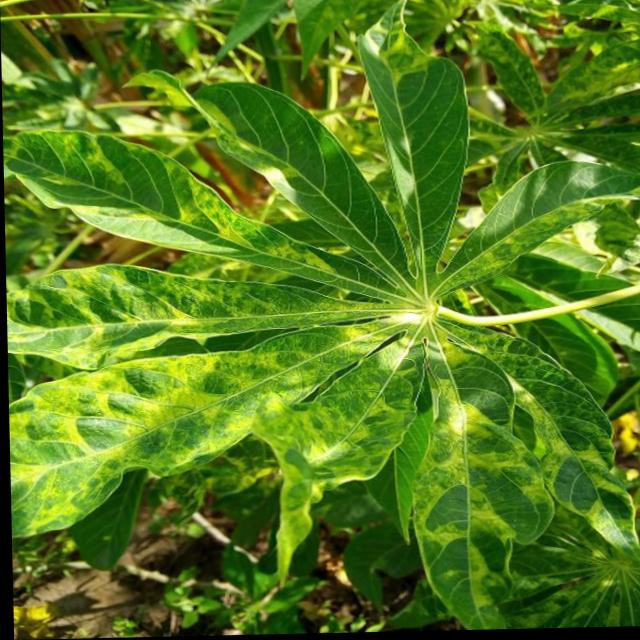Mosaico: (31, 86, 614, 585)
